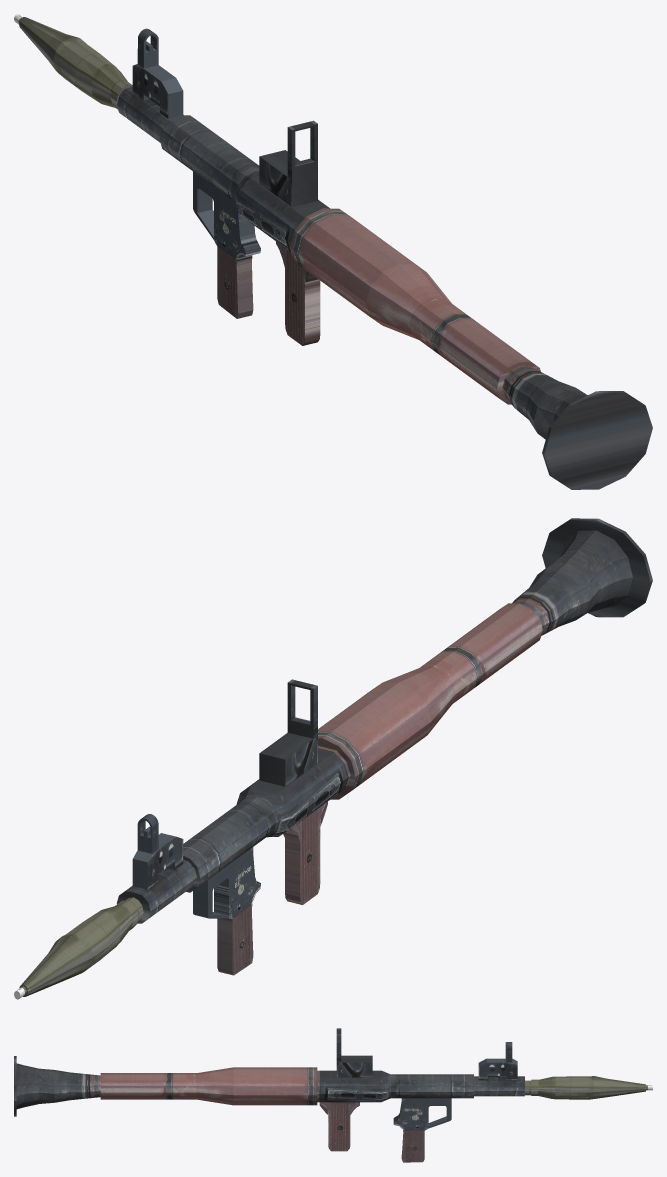
The model's file is rpg7_world.fbx.
3 views of the same model, one above another, from view 1: azimuth 30°, elevation 25°; view 2: azimuth 150°, elevation 25°; view 3: azimuth 270°, elevation 25° (orthographic). The views are drawn at different scales.
Parts seen in each view (by area): view 1: rpg_body, rpg_pistolgrip, rpg_rocket, rpg_rearsight, rpg_grip, rpg_frontsight, rpg_trigger; view 2: rpg_body, rpg_rocket, rpg_pistolgrip, rpg_rearsight, rpg_grip, rpg_frontsight, rpg_trigger; view 3: rpg_body, rpg_rocket, rpg_pistolgrip, rpg_grip, rpg_rearsight, rpg_frontsight, rpg_trigger.
Boxes of the visible parts, x1,y1,x2,y2 form: rpg_body: [117, 86, 652, 489]; rpg_pistolgrip: [212, 186, 260, 318]; rpg_rocket: [14, 14, 132, 109]; rpg_rearsight: [259, 120, 317, 207]; rpg_grip: [276, 241, 320, 345]; rpg_frontsight: [132, 28, 183, 118]; rpg_trigger: [193, 171, 213, 239]; rpg_body: [116, 518, 652, 923]; rpg_rocket: [14, 897, 143, 999]; rpg_pistolgrip: [214, 847, 260, 975]; rpg_rearsight: [259, 679, 317, 786]; rpg_grip: [283, 801, 327, 904]; rpg_frontsight: [132, 814, 183, 889]; rpg_trigger: [193, 866, 228, 918]; rpg_body: [14, 1056, 524, 1116]; rpg_rocket: [525, 1076, 652, 1099]; rpg_pistolgrip: [393, 1098, 430, 1162]; rpg_grip: [319, 1102, 359, 1151]; rpg_rearsight: [336, 1028, 372, 1077]; rpg_frontsight: [478, 1042, 517, 1080]; rpg_trigger: [428, 1098, 451, 1128].
Size of the model in its own units: 5.78 by 11.92 by 53.58.
1 material, 1 textured.
